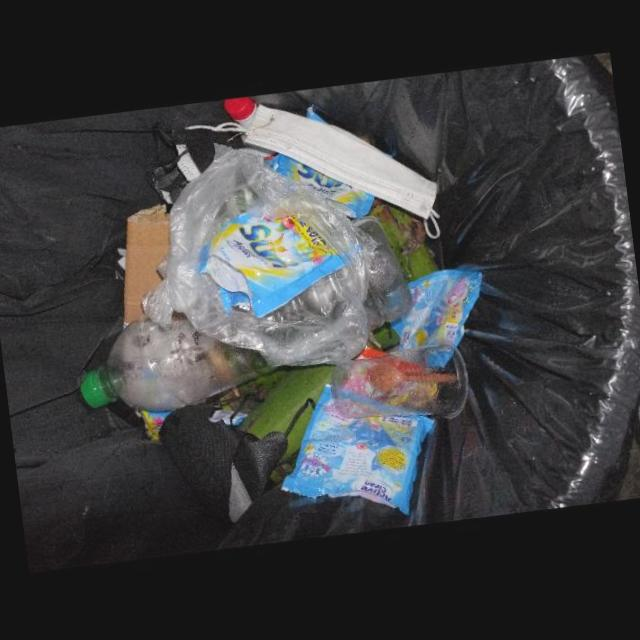carton: (123, 202, 170, 328)
chai_nhua_pet: (79, 307, 280, 409)
goi_nhua_nho: (281, 383, 435, 513), (205, 211, 345, 317), (393, 269, 482, 368)
khau_trang: (242, 103, 439, 219), (158, 402, 288, 528), (145, 121, 237, 203)
tui_ni_long: (141, 148, 370, 366)
